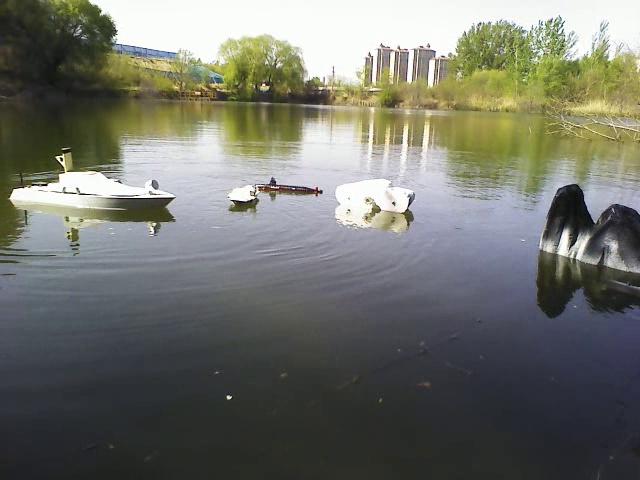aircraft_carrier: (229, 179, 259, 208)
boat: (6, 166, 177, 214)
iceberg: (333, 176, 416, 217)
rock: (537, 180, 639, 275)
submarine: (258, 178, 322, 197)
